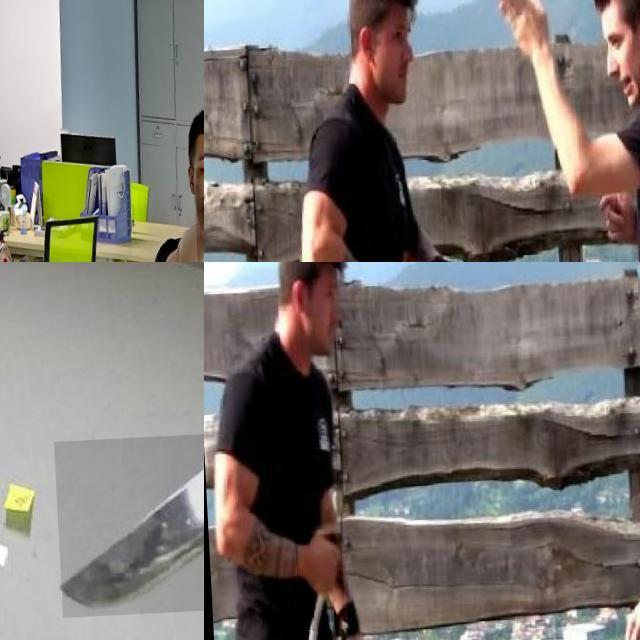-: (50, 435, 204, 620), (290, 534, 342, 640)
gun-knife-thesis - v11 Yolov5 augmented: (190, 169, 204, 262)
